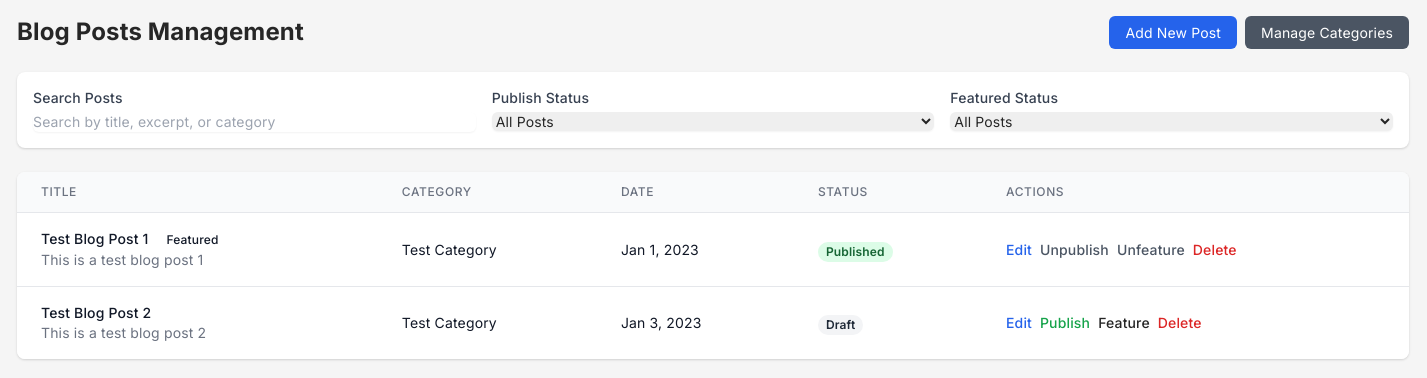
BlogPostsManagement Component › should filter posts when search query is entered
The image size is (1427, 378).
Expected: the text "Test Blog Post 1" is shown, [41,230,148,247]
Expected: the text "Test Blog Post 2" is shown, [41,304,151,321]
Get the search input and type in it
Type "Post 1" into the field with placeholder "Search by title, excerpt, or category". click: (254, 122)
box: [33,112,476,132]
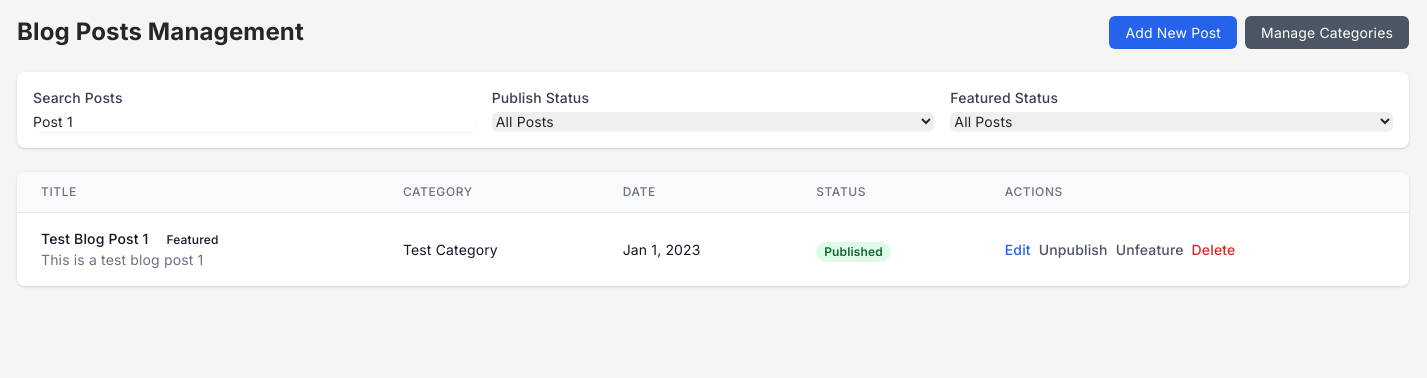
Expected: the text "Test Blog Post 1" is shown, [41,230,148,247]
Expected: the text "Test Blog Post 2" is gone
